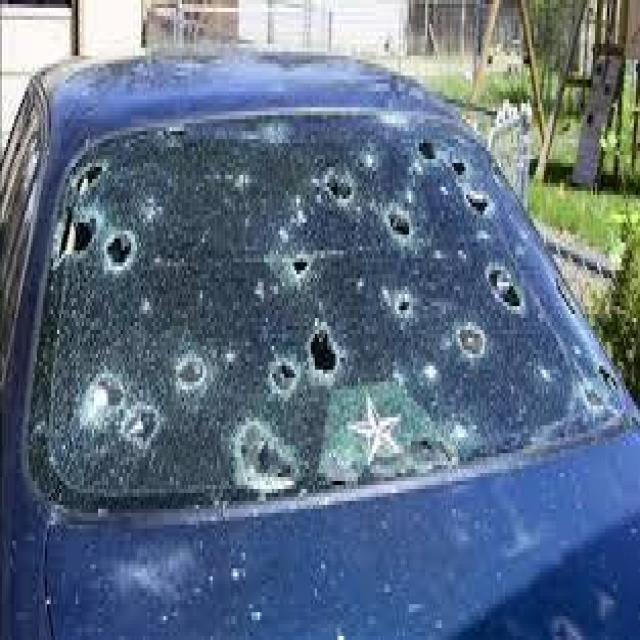damaged: (30, 123, 626, 509)
